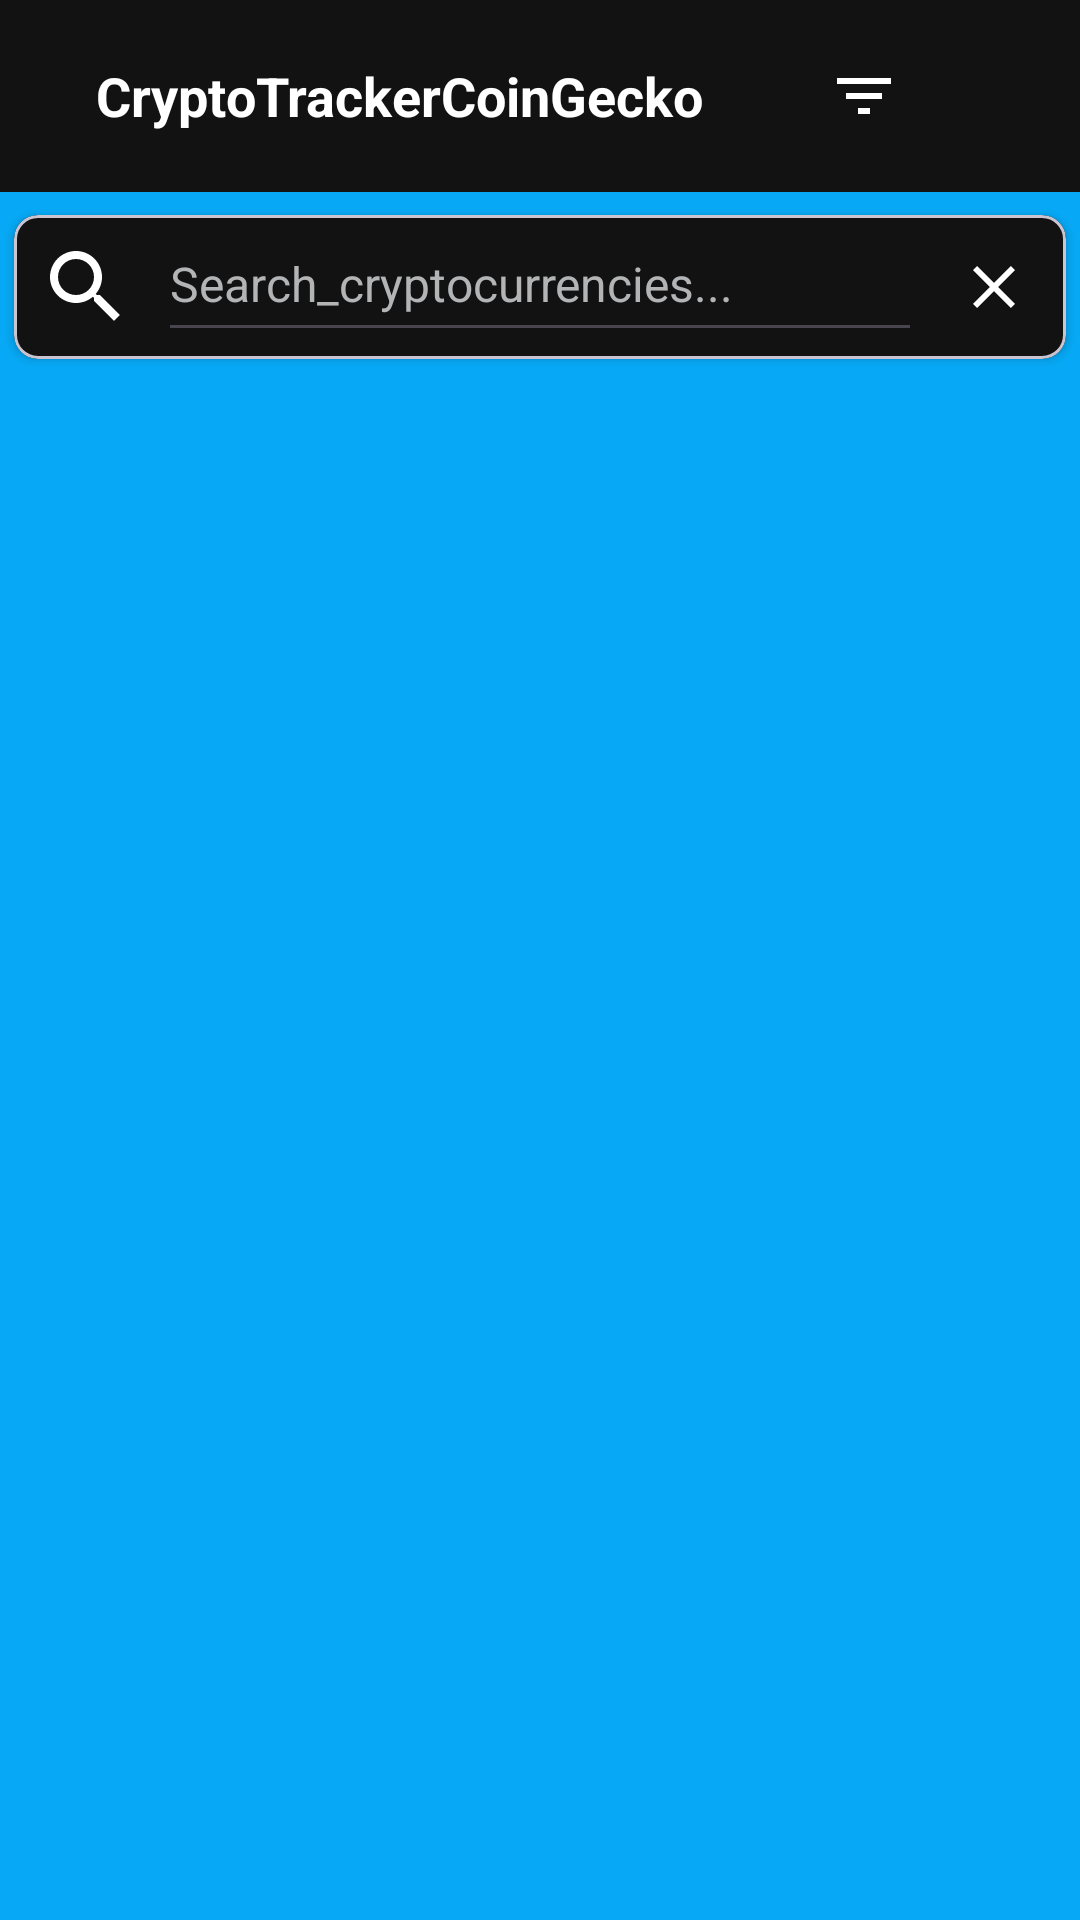

Locate icon controls on the screen. Image size 1080px x 1920px, boxes as [x1,y1,x2,y2].
close: [973,266,1015,308]
filter list: [837,78,891,114]
